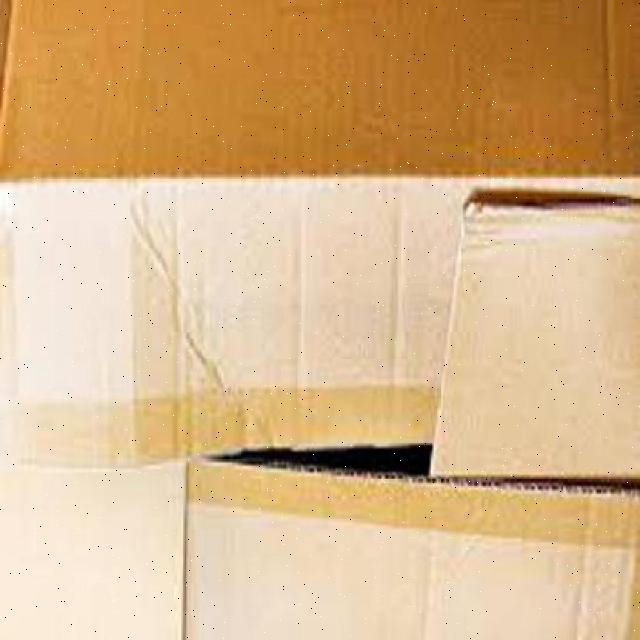defect: (5, 1, 637, 638)
